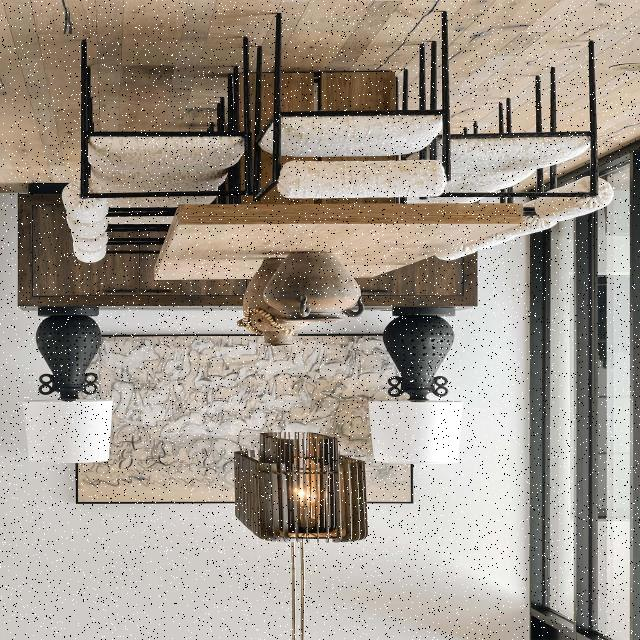mobile-phone: (14, 251, 520, 567)
